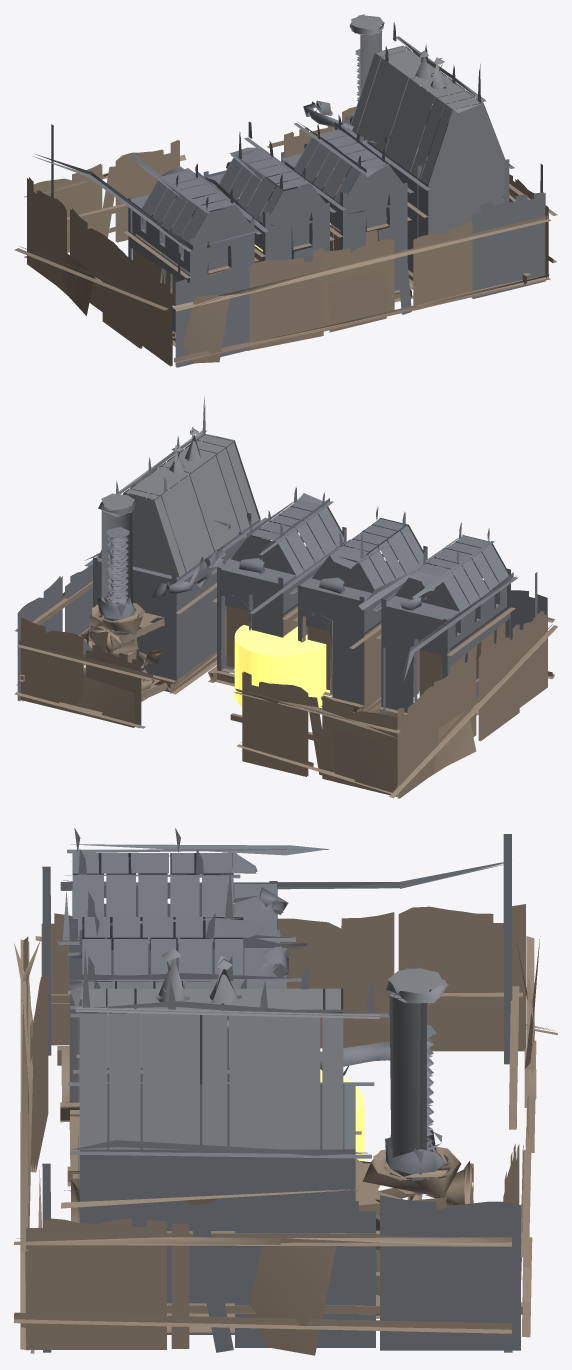
Rendered from care_house.glb.
The picture shows the model from 3 angles, top to bottom: view 1: azimuth 30°, elevation 25°; view 2: azimuth 150°, elevation 25°; view 3: azimuth 270°, elevation 25°; orthographic projection. The views are drawn at different scales.
Parts seen in each view (by area): view 1: care_house_Building; view 2: care_house_Building; view 3: care_house_Building.
Part boxes in pixels (bbox=[...]): care_house_Building: bbox=[14, 14, 557, 367]; care_house_Building: bbox=[14, 397, 557, 798]; care_house_Building: bbox=[14, 828, 557, 1355].
Bounding box in the file's own units: 15.4 × 8.32 × 11.14.
